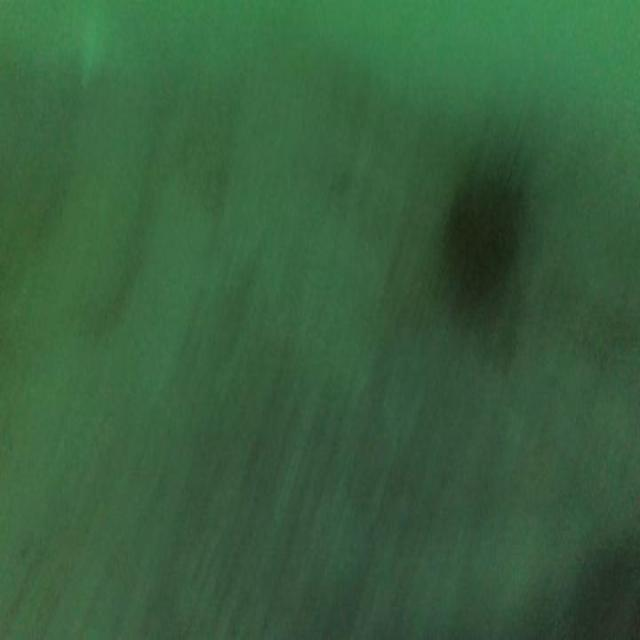echinus: (444, 153, 524, 338)
